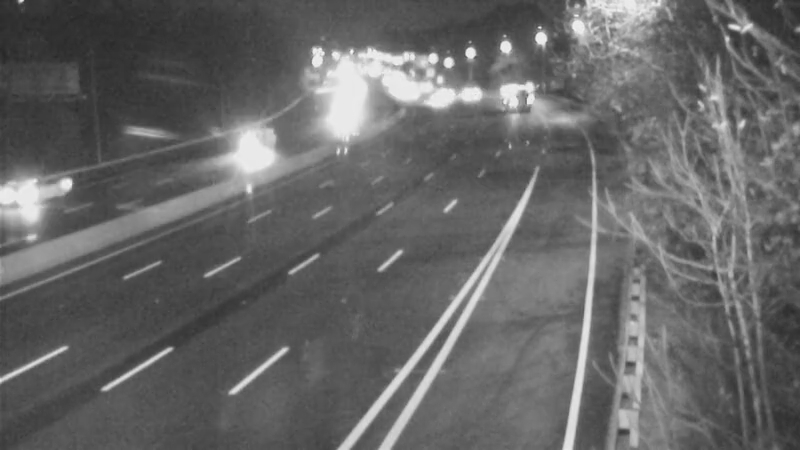vehicle: (221, 115, 301, 195), (1, 155, 69, 235), (451, 61, 501, 111), (491, 65, 541, 115)
